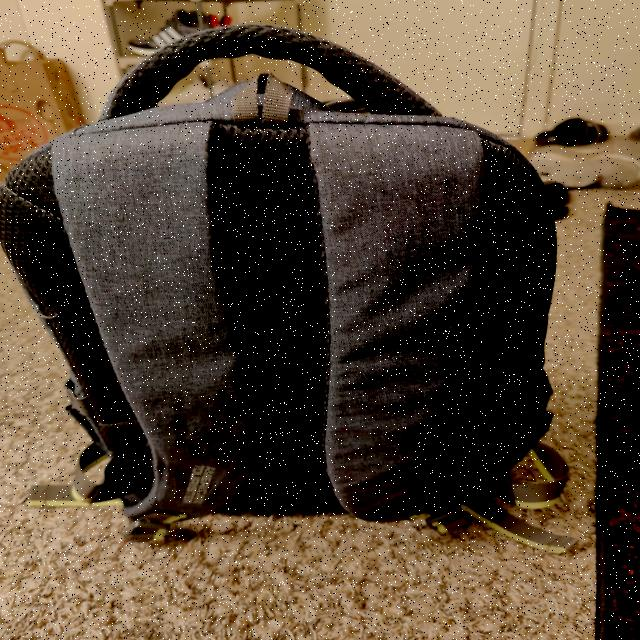bag: (4, 112, 564, 500)
